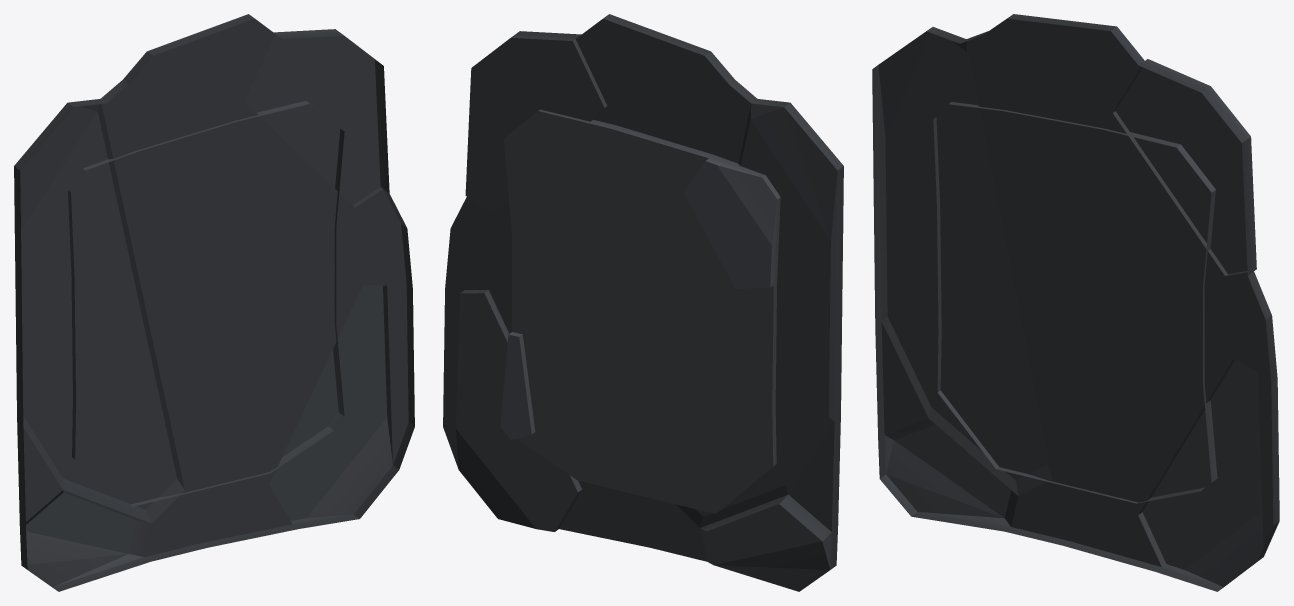
The model's file is Tomb Platform 01.FBX.
3 renders of one model, left to right at view 1: azimuth 30°, elevation 25°; view 2: azimuth 150°, elevation 25°; view 3: azimuth 330°, elevation 25°, orthographic.
Parts seen in each view (by area): view 1: Tomb Platform 01; view 2: Tomb Platform 01; view 3: Tomb Platform 01.
Boxes of the visible parts, left/top/right/bottom form: Tomb Platform 01: left=14, top=14, right=414, bottom=591; Tomb Platform 01: left=443, top=14, right=843, bottom=591; Tomb Platform 01: left=872, top=14, right=1279, bottom=591.
Size of the model in its own units: 477 by 607 by 30.85.
